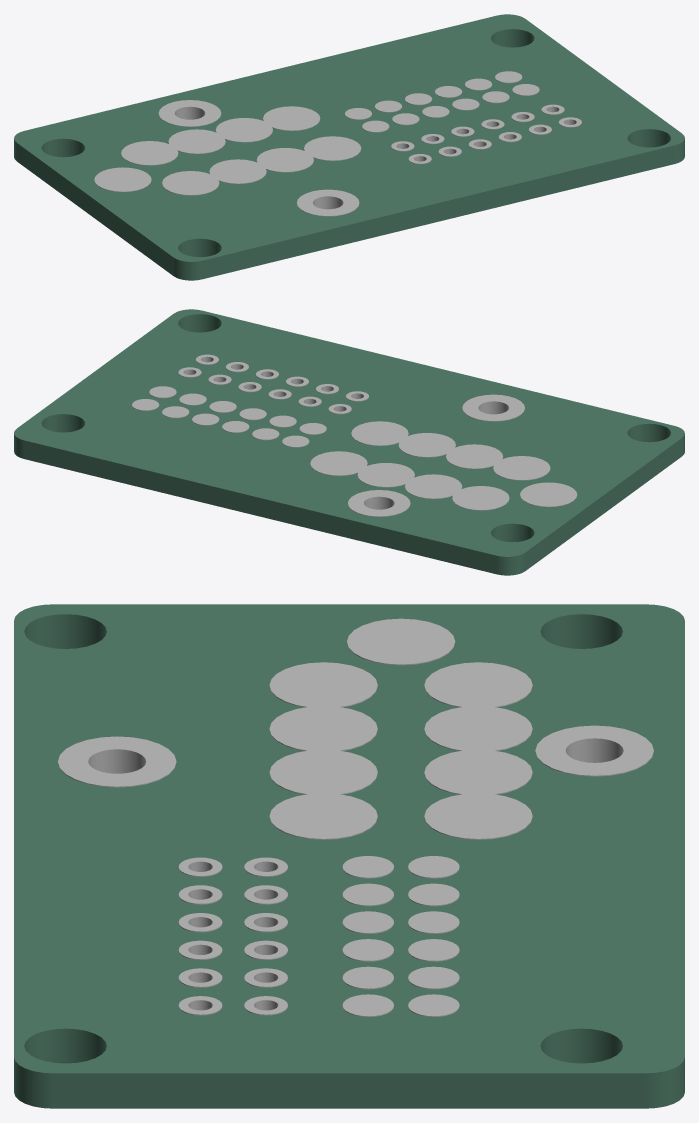
The model's file is pcb-e5-block.glb.
3 views of the same model, one above another, from view 1: azimuth 30°, elevation 25°; view 2: azimuth 150°, elevation 25°; view 3: azimuth 270°, elevation 25° (orthographic). The views are drawn at different scales.
Parts seen in each view (by area): view 1: =>[0:1:1:3], =>[0:1:1:2]; view 2: =>[0:1:1:3], =>[0:1:1:2]; view 3: =>[0:1:1:3], =>[0:1:1:2].
Part boxes in pixels (bbox=[...]): =>[0:1:1:3]: bbox=[14, 14, 684, 280]; =>[0:1:1:2]: bbox=[94, 71, 581, 216]; =>[0:1:1:3]: bbox=[14, 309, 684, 575]; =>[0:1:1:2]: bbox=[132, 354, 577, 516]; =>[0:1:1:3]: bbox=[14, 604, 684, 1108]; =>[0:1:1:2]: bbox=[58, 618, 653, 1016].
Size of the model in its own units: 0.043 by 0.00159 by 0.026.
